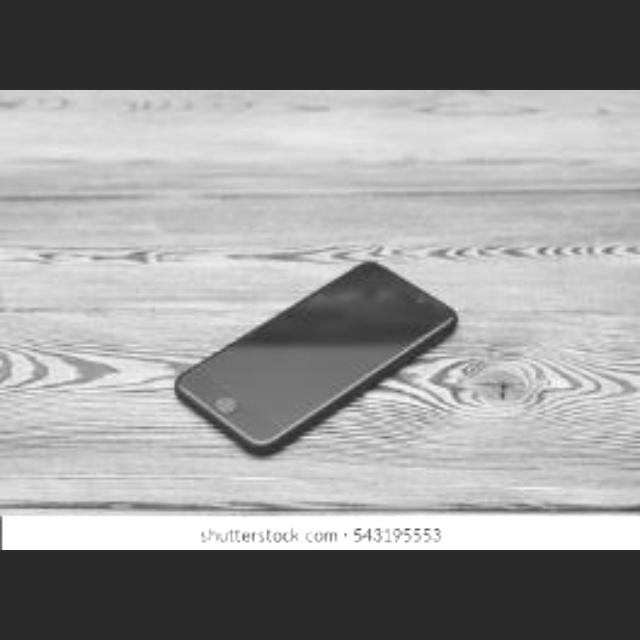fake: (174, 261, 460, 460)
